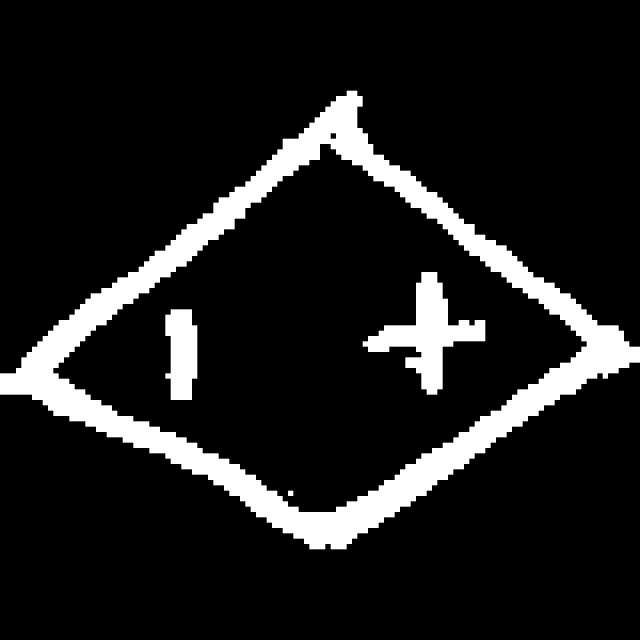dependant_voltage: (14, 107, 633, 556)
